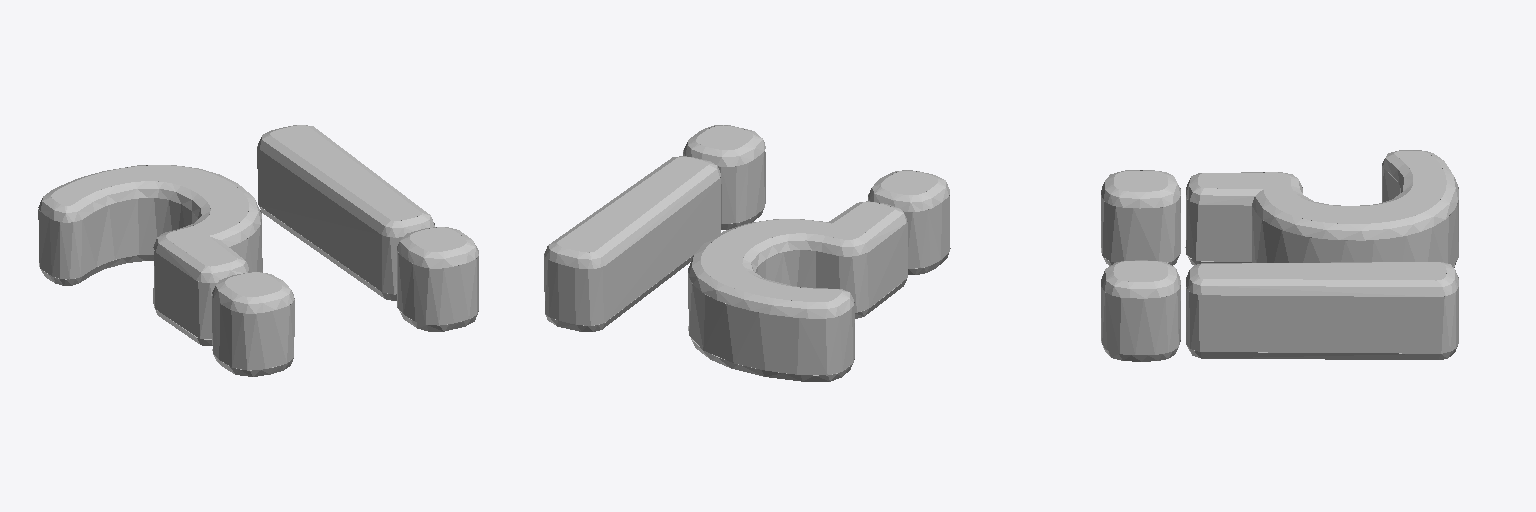
File: wtf.obj
The picture shows the model from 3 angles: view 1: azimuth 30°, elevation 25°; view 2: azimuth 150°, elevation 25°; view 3: azimuth 270°, elevation 25°; orthographic projection.
Visible parts, largest first — view 1: A_Text.059; view 2: A_Text.059; view 3: A_Text.059.
Boxes of the visible parts, x1=… form: A_Text.059: x1=38, y1=125, x2=478, y2=376; A_Text.059: x1=544, y1=125, x2=950, y2=381; A_Text.059: x1=1101, y1=150, x2=1458, y2=361.
Size of the model in its own units: 0.5367 by 0.1402 by 0.5724.